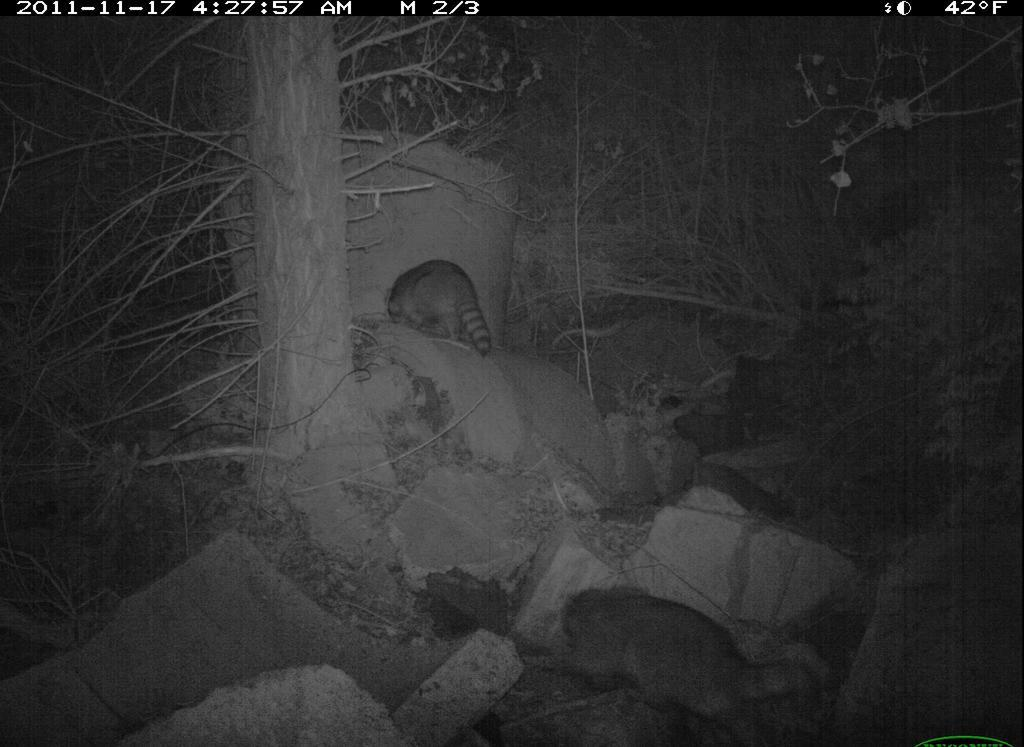raccoon: (382, 254, 498, 365)
